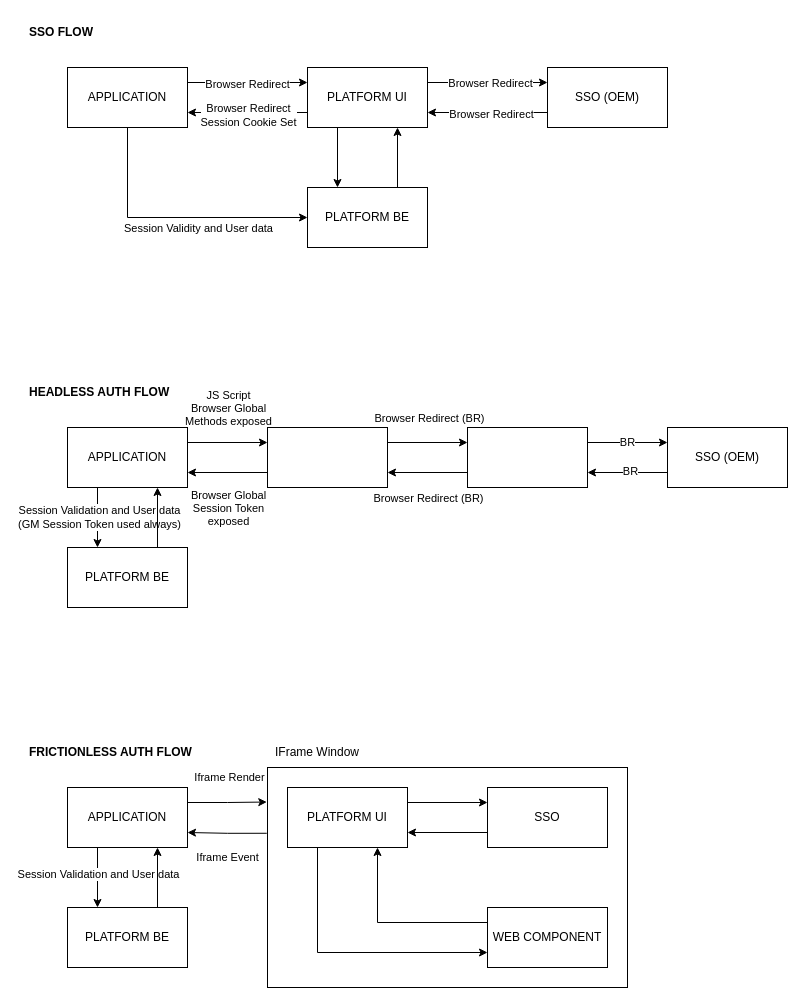
Image size: 805x1005. Some labels were removed from this diagram. The centre of each missing label's shape, as x and y in pixels:
"HEADLESS AUTH SCRIPT" belongs at pixel 327 457.
"HEADLESS UI (OEM)" belongs at pixel 527 457.
